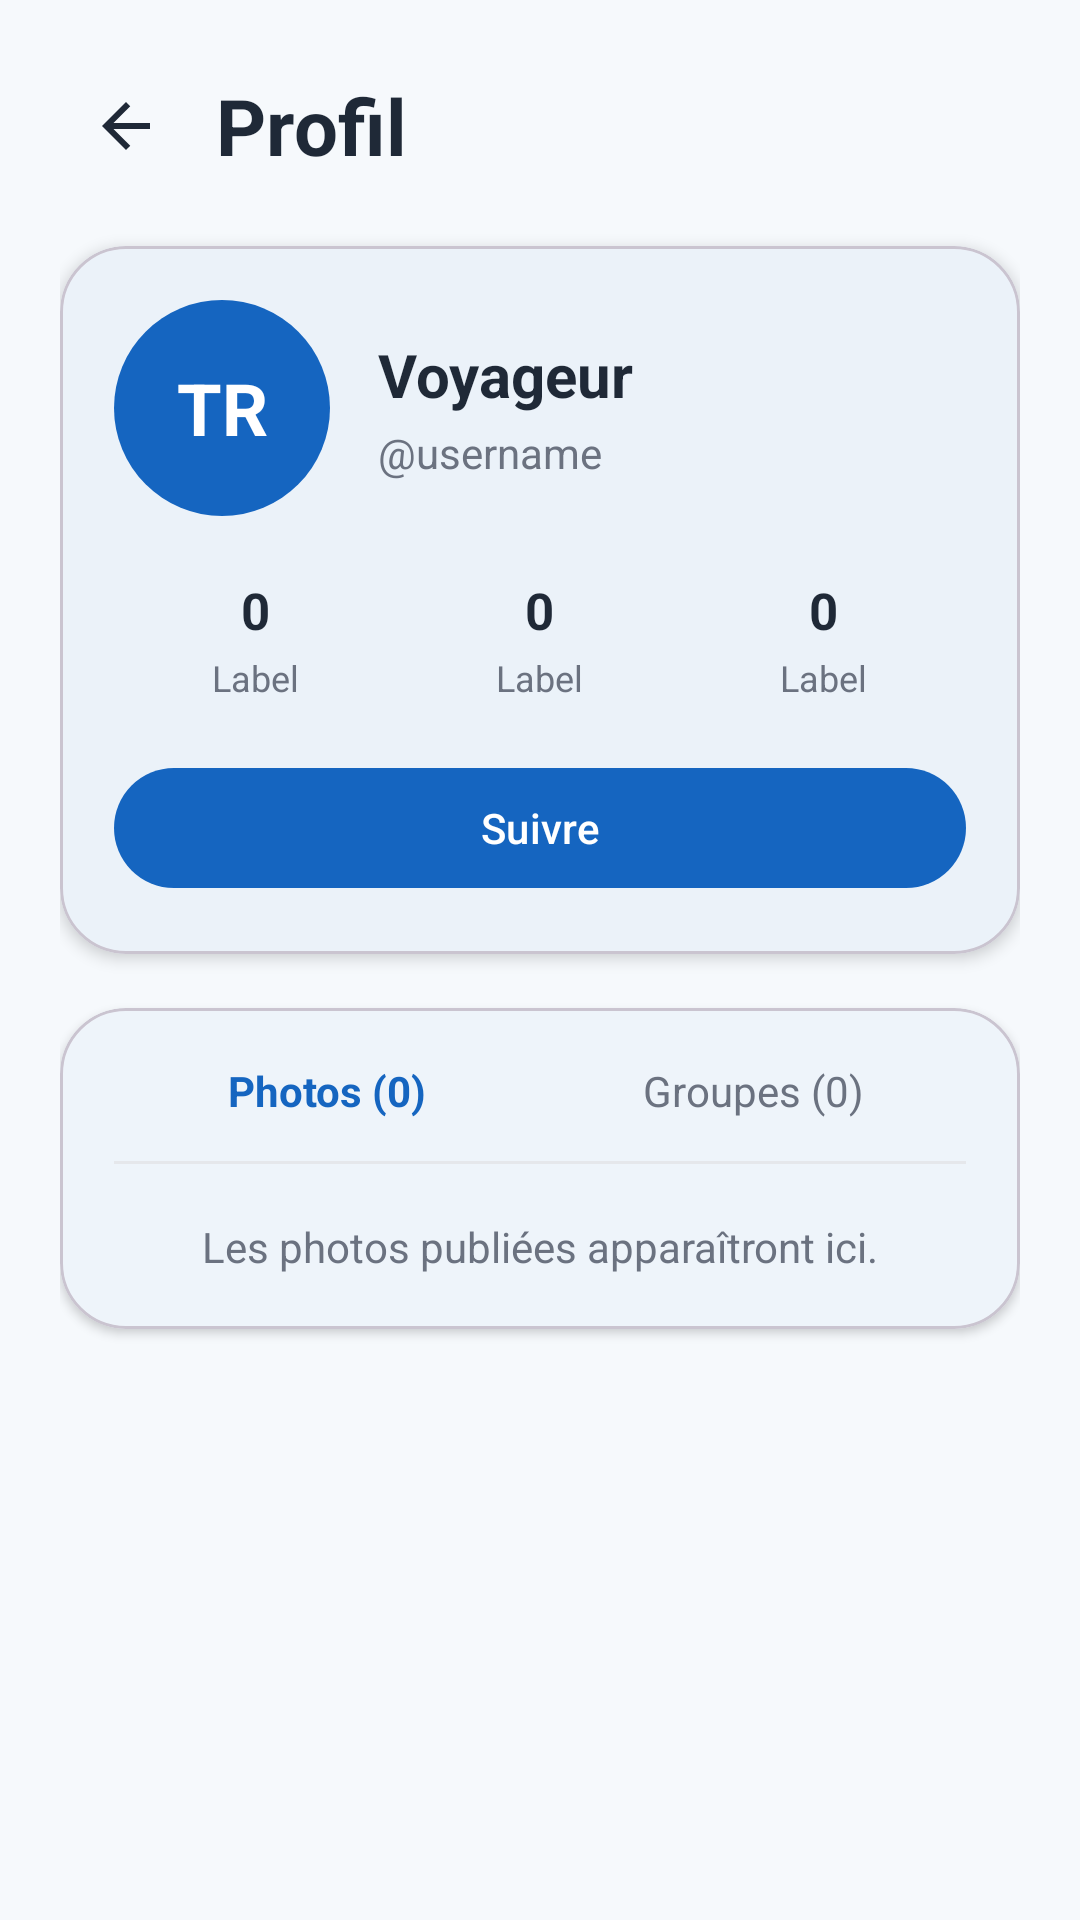

Point at icon controls on the screen. Image size 1080px x 1920px, points as point (x, y).
Retour: point (126, 126)
